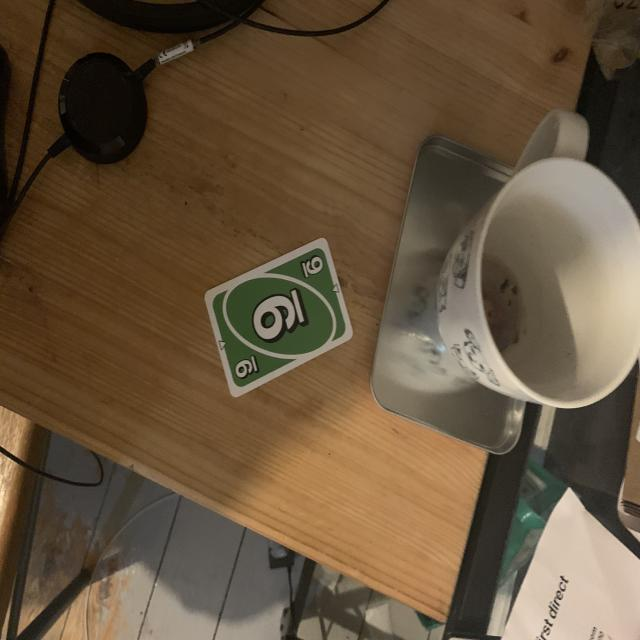lgreen-9: (298, 253, 328, 282)
